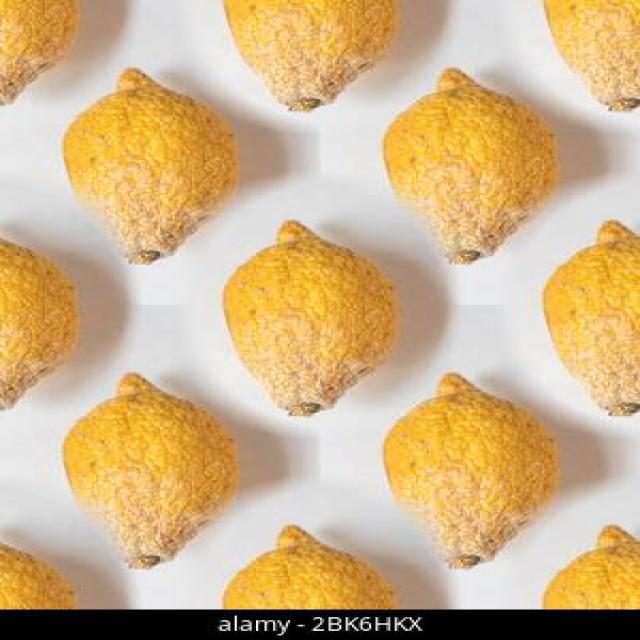overripe: (221, 211, 403, 421), (381, 368, 568, 568), (61, 370, 243, 574), (384, 66, 565, 268), (59, 65, 237, 265), (535, 216, 640, 419)
